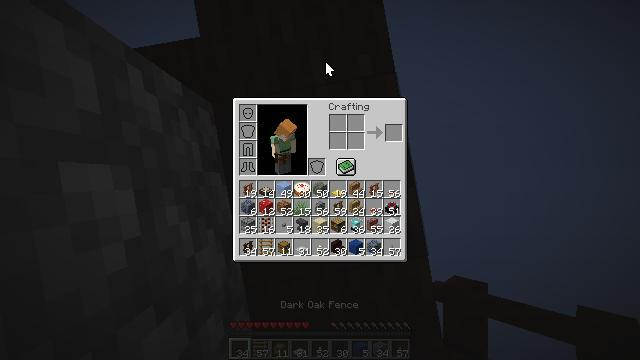cursor: (61, 325, 77, 335)
